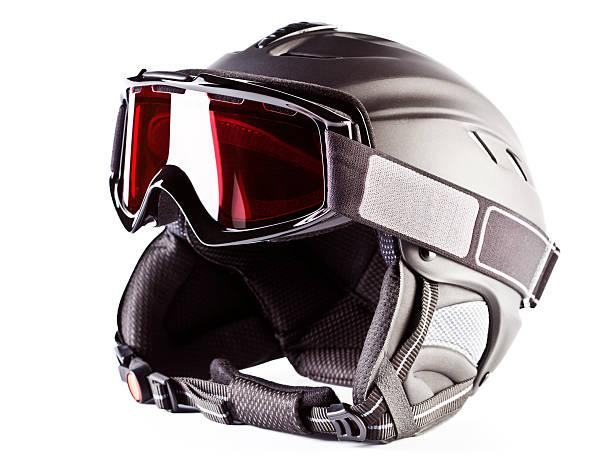helmet: (96, 13, 570, 435)
